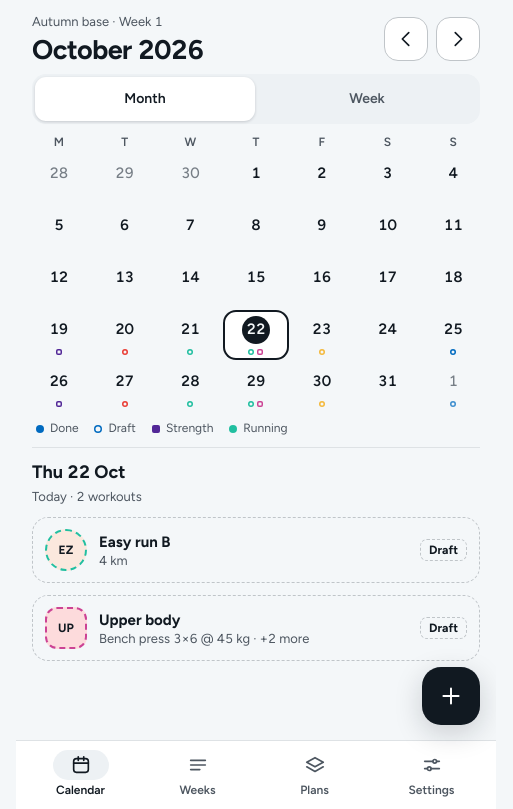
Scenario: calendar with a plan › shows a rest day with a prompt to add a workout
Expected: the heading "October 2026" is shown, 32,32 -> 204,66
Click the button named "Sat 24 Oct, no workouts". click: point(387, 335)
box: 355,310 -> 420,360
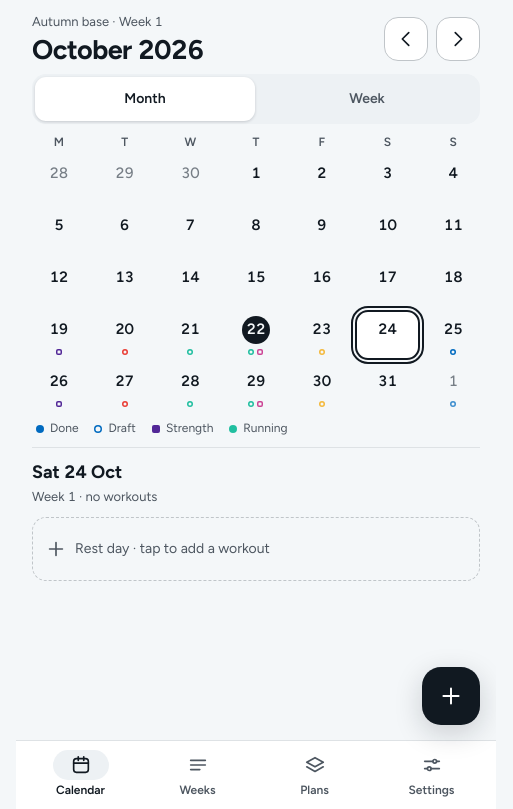
Now the button "Rest day · tap to add a workout" is shown, box 32,518 -> 480,582
